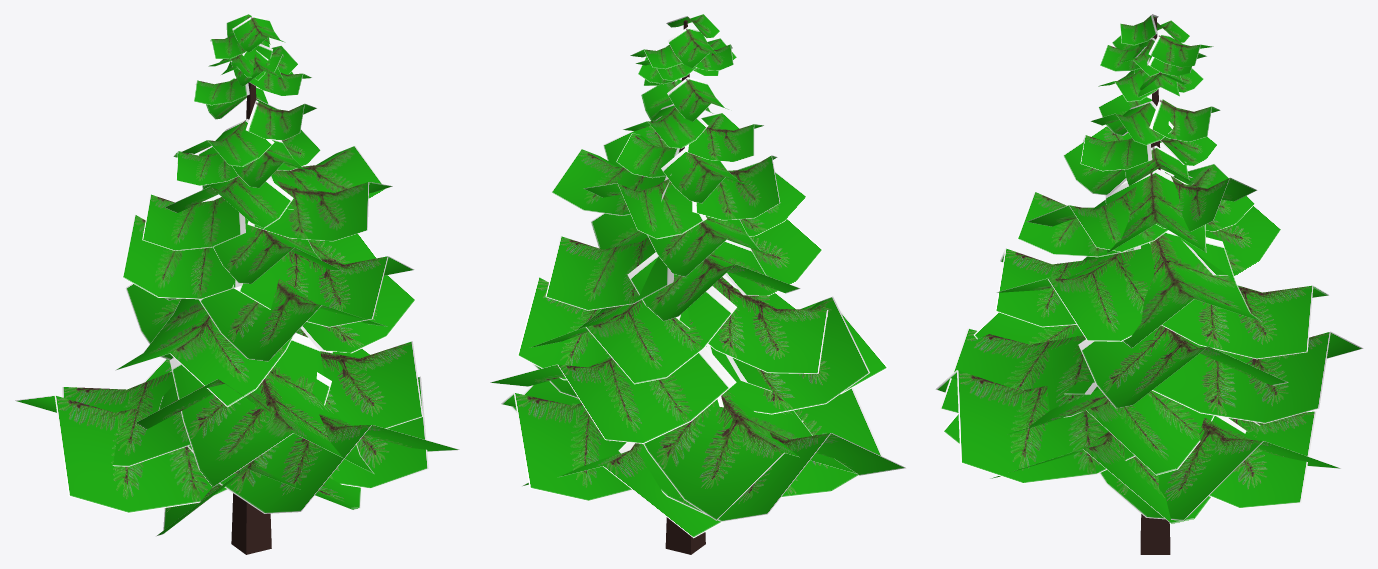
File: PineTree.fbx
3 views of the same model, side by side, from view 1: azimuth 30°, elevation 25°; view 2: azimuth 150°, elevation 25°; view 3: azimuth 270°, elevation 25° (orthographic).
Visible parts, largest first — view 1: pineLeaf.010, pineLeaf.005, pineLeaf.004, pineLeaf.007, pineLeaf.013, pineLeaf.014, pineLeaf.016, pineLeaf.017, pineLeaf.011, pineLeaf.019, pineLeaf.023, pineLeaf.001 (+19 smaller); view 2: pineLeaf.011, pineLeaf.006, pineLeaf.003, pineLeaf.012, pineLeaf.014, pineLeaf.008, pineLeaf.015, pineLeaf.005, pineLeaf.009, pineLeaf.017, pineLeaf.002, pineLeaf.021 (+21 smaller); view 3: pineLeaf.004, pineLeaf.006, pineLeaf.012, pineLeaf.013, pineLeaf.010, pineLeaf.007, pineLeaf.015, pineLeaf.009, pineLeaf.003, pineLeaf, pineLeaf.016, pineLeaf.021 (+20 smaller).
Boxes of the visible parts, box(x1,y1,x2,y2) form: pineLeaf.010: box(169, 333, 374, 487); pineLeaf.005: box(15, 395, 227, 513); pineLeaf.004: box(187, 414, 459, 513); pineLeaf.007: box(320, 341, 423, 428); pineLeaf.013: box(232, 251, 414, 327); pineLeaf.014: box(115, 298, 294, 407); pineLeaf.016: box(198, 279, 387, 361); pineLeaf.017: box(122, 214, 241, 299); pineLeaf.011: box(62, 371, 190, 466); pineLeaf.019: box(247, 181, 392, 241); pineLeaf.023: box(142, 194, 245, 250); pineLeaf.001: box(264, 376, 428, 488); pineLeaf.011: box(643, 346, 858, 520); pineLeaf.006: box(490, 346, 736, 443); pineLeaf.003: box(501, 393, 632, 501); pineLeaf.012: box(531, 286, 736, 384); pineLeaf.014: box(676, 277, 828, 373); pineLeaf.008: box(706, 296, 869, 414); pineLeaf.015: box(545, 236, 673, 310); pineLeaf.005: box(618, 432, 905, 521); pineLeaf.009: box(517, 277, 610, 380); pineLeaf.017: box(627, 240, 800, 321); pineLeaf.002: box(781, 388, 882, 497); pineLeaf.021: box(551, 149, 669, 215); pineLeaf.004: box(935, 370, 1135, 483); pineLeaf.006: box(1152, 331, 1363, 423); pineLeaf.012: box(1161, 285, 1328, 359); pineLeaf.013: box(996, 242, 1154, 341); pineLeaf.010: box(940, 328, 1098, 417); pineLeaf.007: box(1008, 389, 1214, 475); pineLeaf.015: box(1122, 230, 1261, 347); pineLeaf.009: box(1078, 325, 1288, 408); pineLeaf.003: box(1099, 416, 1340, 520); pineLeaf: box(1209, 411, 1316, 508); pineLeaf.016: box(995, 248, 1098, 327); pineLeaf.021: box(1105, 169, 1206, 253).
Bounding box in the file's own units: 271 × 368 × 267.
